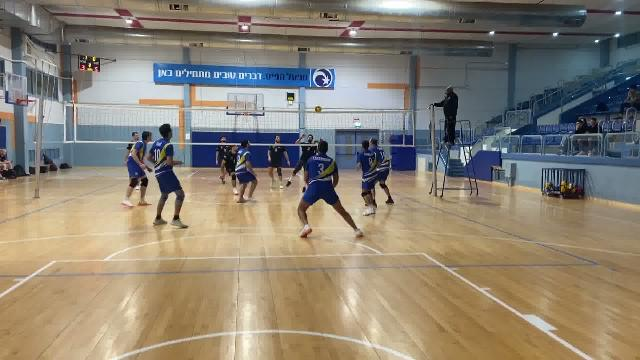ball: (315, 105, 324, 115)
